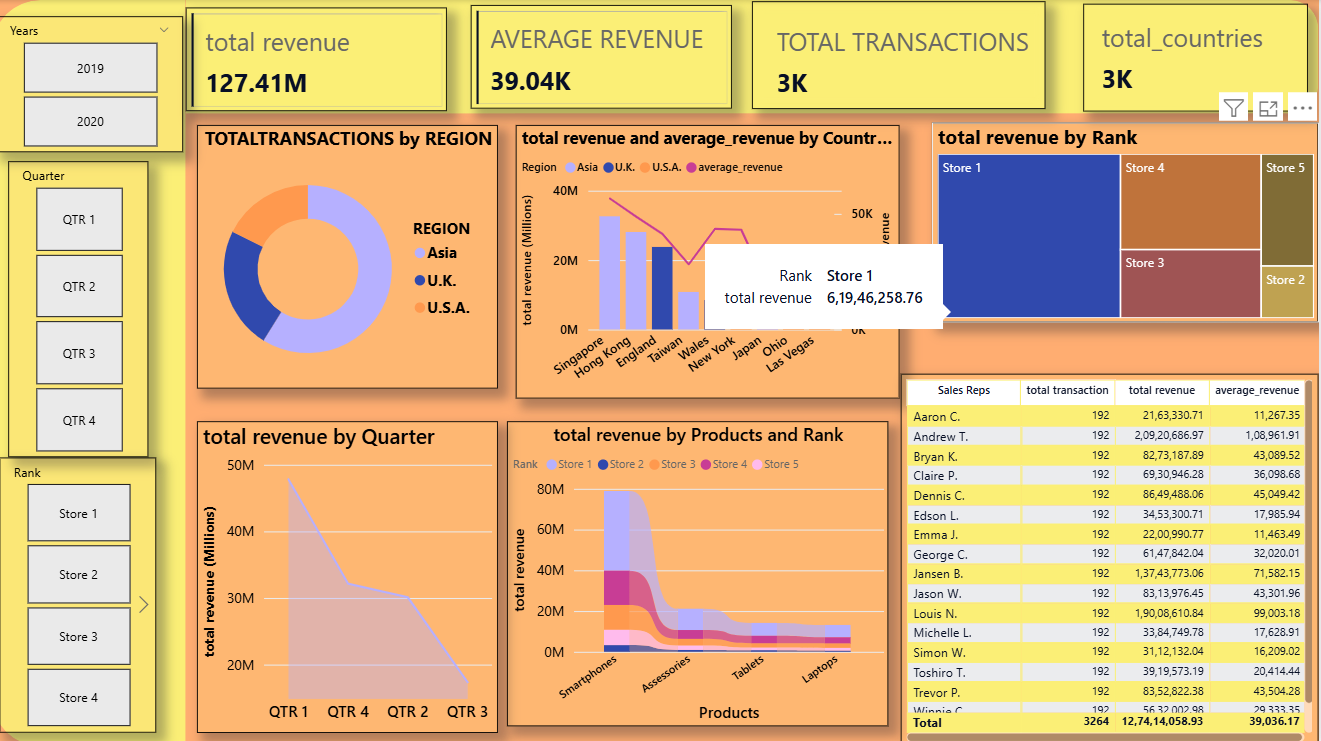

Layout of this report page (visuals, bound fields, positions):
{"tool":"powerbi","page":{"name":"Page 1","canvas":[1280,720],"ordinal":0},"visuals":[{"type":"shape","box":[0,0,187,720.2],"z":0},{"type":"shape","box":[187,0,1093,109.8],"z":1000},{"type":"cardVisual","fields":{"Data":["measure.average_revenue"]},"box":[462.1,4.8,252.1,100.1],"z":2000},{"type":"cardVisual","fields":{"Data":["measure.total transaction"]},"box":[733.5,1.2,283.5,103.8],"z":3000},{"type":"cardVisual","fields":{"Data":["measure.total_countries"]},"box":[1053.2,3.6,217.2,103.8],"z":4000},{"type":"donutChart","title":"TOTALTRANSACTIONS by REGION","fields":{"Category":["Sheet1.Region"],"Y":["measure.total transaction"]},"box":[197.9,120.6,290.8,254.6],"z":5000},{"type":"cardVisual","fields":{"Data":["measure.total revenue"]},"box":[187,7.2,252.1,100.1],"z":6000},{"type":"lineStackedColumnComboChart","fields":{"Category":["Sheet1.Country"],"Y":["measure.total revenue"],"Y2":["measure.average_revenue"],"Series":["Sheet1.Region"]},"box":[505.5,120.6,370.4,264.2],"z":7000},{"type":"treemap","fields":{"Values":["measure.total revenue"],"Group":["Sheet1.Rank"]},"box":[907.2,118.2,372.8,193],"z":8000},{"type":"areaChart","fields":{"Y":["measure.total revenue"],"Category":["Sheet1.Quarter"]},"box":[197.9,406.6,290.8,300.4],"z":9000},{"type":"ribbonChart","fields":{"Category":["Sheet1.Products"],"Y":["measure.total revenue"],"Series":["Sheet1.Rank"]},"box":[497.1,406.6,368,294.4],"z":10000},{"type":"pivotTable","fields":{"Rows":["Sheet1.Sales Reps"],"Values":["measure.total transaction","measure.total revenue","measure.average_revenue"]},"box":[877.1,360.7,403,359.5],"z":11000},{"type":"slicer","fields":{"Values":["Sheet1.Years"]},"box":[3.6,15.7,181,131.5],"z":12000},{"type":"slicer","fields":{"Values":["Sheet1.Quarter"]},"box":[15.7,155.6,135.1,285.9],"z":13000},{"type":"slicer","fields":{"Values":["Sheet1.Rank"]},"box":[7.2,441.6,150.8,265.4],"z":14000}]}

Visuals, with their boxes in screenshot pixels (x1, y1, x2, y2), scaled from the page's 1280x720 canvas onto the 1321x741 screenshot:
shape: <bbox>0, 0, 193, 740</bbox>
shape: <bbox>193, 0, 1320, 113</bbox>
cardVisual - measure.average_revenue: <bbox>477, 5, 737, 108</bbox>
cardVisual - measure.total transaction: <bbox>757, 1, 1050, 108</bbox>
cardVisual - measure.total_countries: <bbox>1087, 4, 1311, 111</bbox>
"TOTALTRANSACTIONS by REGION" donutChart: <bbox>204, 124, 504, 386</bbox>
cardVisual - measure.total revenue: <bbox>193, 7, 453, 110</bbox>
lineStackedColumnComboChart - Sheet1.Country x measure.total revenue: <bbox>522, 124, 904, 396</bbox>
treemap - measure.total revenue x Sheet1.Rank: <bbox>936, 122, 1320, 320</bbox>
areaChart - measure.total revenue x Sheet1.Quarter: <bbox>204, 418, 504, 728</bbox>
ribbonChart - Sheet1.Products x measure.total revenue: <bbox>513, 418, 893, 721</bbox>
pivotTable - Sheet1.Sales Reps x measure.total transaction: <bbox>905, 371, 1320, 740</bbox>
slicer - Sheet1.Years: <bbox>4, 16, 191, 151</bbox>
slicer - Sheet1.Quarter: <bbox>16, 160, 156, 454</bbox>
slicer - Sheet1.Rank: <bbox>7, 454, 163, 728</bbox>
